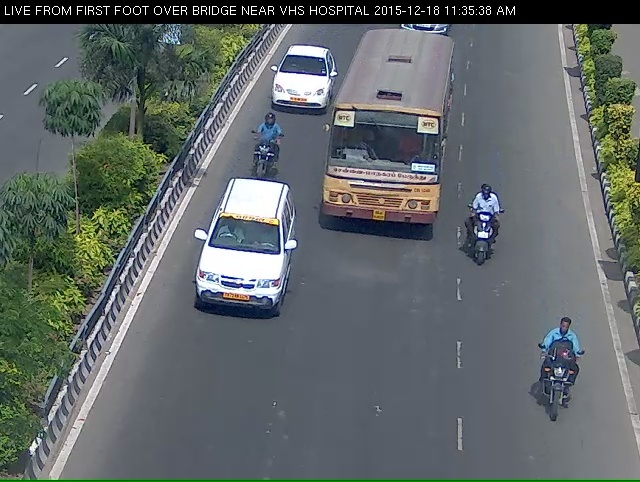Bus: (342, 37, 451, 259)
Car: (198, 197, 281, 366), (261, 49, 328, 124), (388, 18, 457, 41)
Person: (534, 345, 587, 465), (466, 195, 509, 287), (232, 127, 279, 195)
